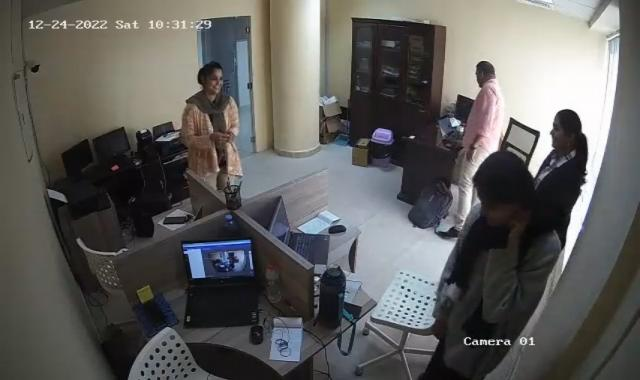no_hairnet: (472, 152, 539, 233), (548, 104, 589, 154), (196, 62, 228, 95), (470, 59, 497, 87)
